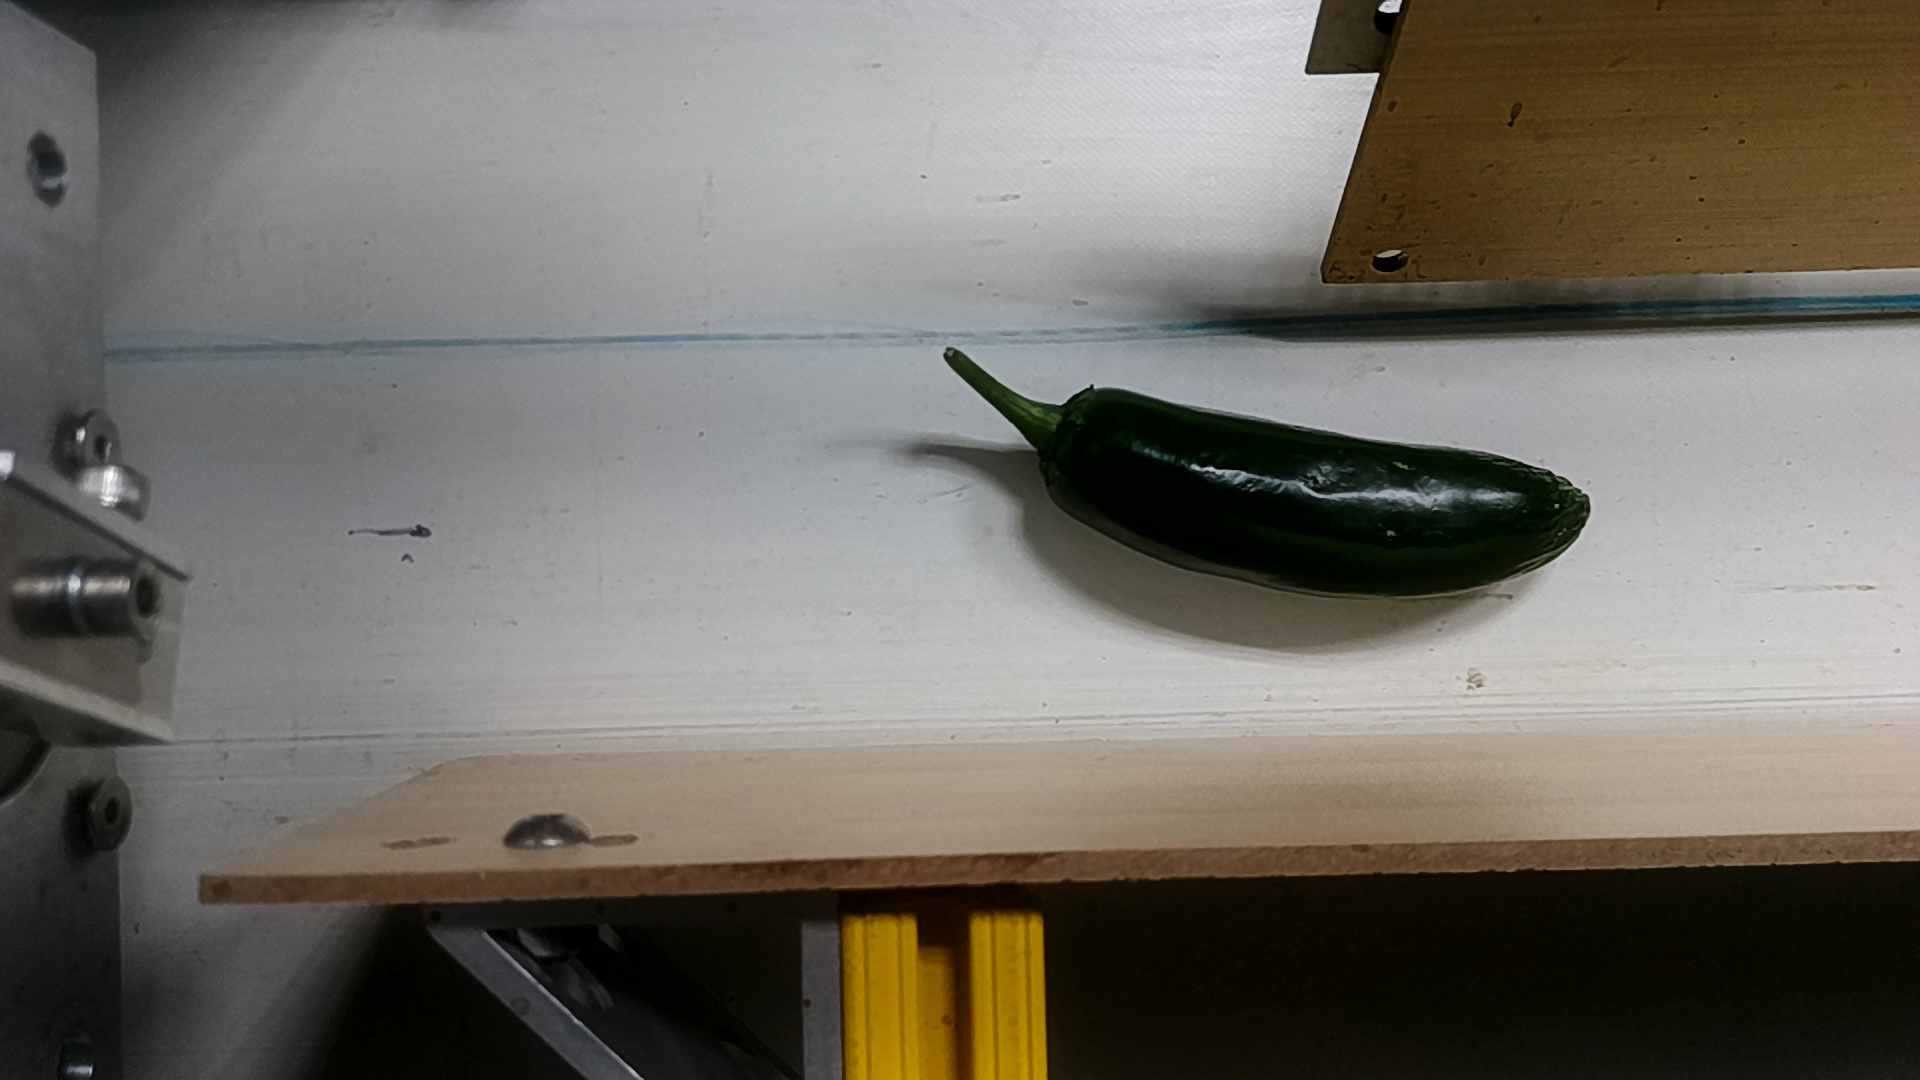Cut Point: (1019, 369, 1124, 525)
